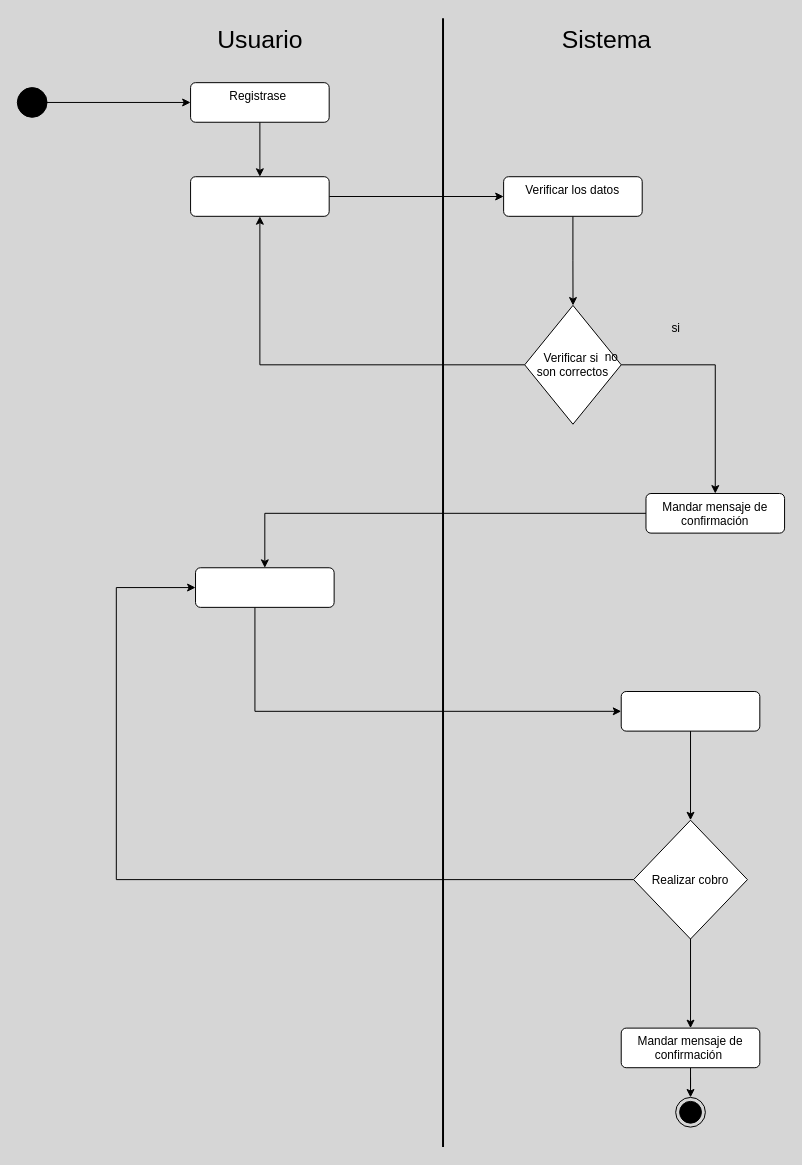
The diagram is 802 pixels wide and 1165 high, and some of its shapes have lost their labels. The centre of each missing label's shape, as x and y in pixels:
"Ingresar el método de pago" goes at (x=264, y=587).
"Ingresar los datos de registro" goes at (x=259, y=196).
"Procesar pago" goes at (x=690, y=711).
